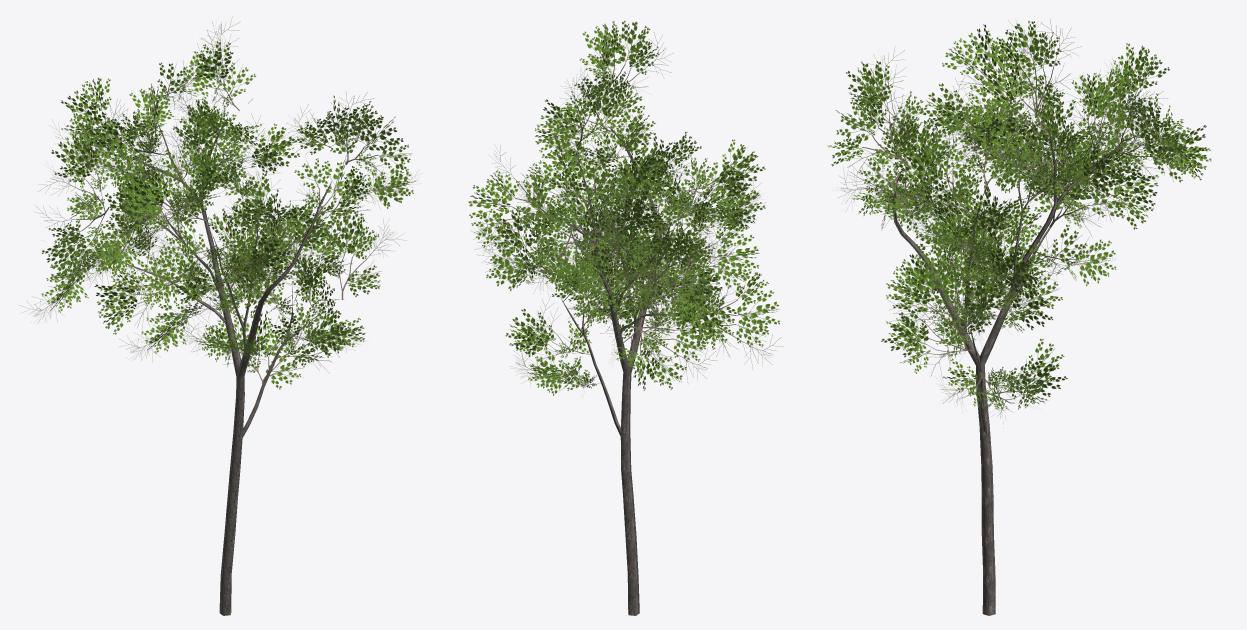
File: poplar1.glb
3 renders of one model, left to right at view 1: azimuth 30°, elevation 25°; view 2: azimuth 150°, elevation 25°; view 3: azimuth 270°, elevation 25°, orthographic. The views are drawn at different scales.
Visible parts, largest first — view 1: foliage.013, structure.013; view 2: foliage.013, structure.013; view 3: foliage.013, structure.013.
Part boxes in pixels (box(x1,y1,x2,y2)): foliage.013: box(19, 17, 416, 389); structure.013: box(54, 84, 367, 615); foliage.013: box(468, 21, 782, 395); structure.013: box(523, 96, 721, 615); foliage.013: box(827, 19, 1211, 423); structure.013: box(892, 75, 1163, 615).
Bounding box in the file's own units: 8.52 × 13.13 × 8.12.
Materials: 2 (2 with a texture image).
